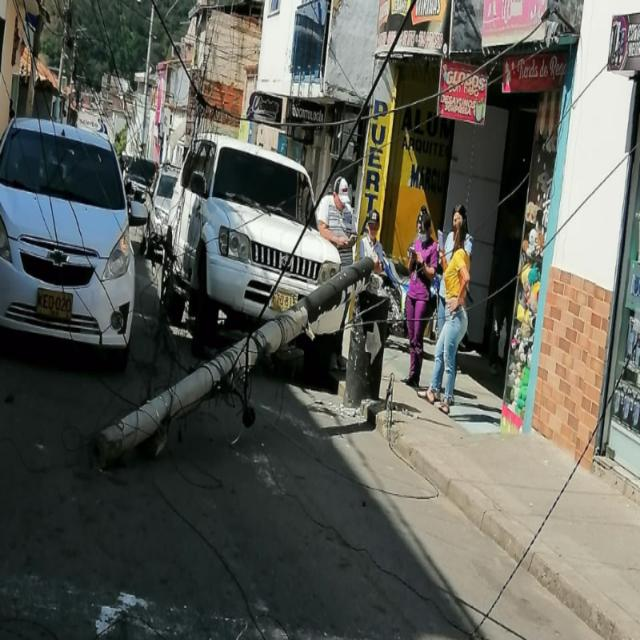Inclined Pole: (95, 256, 388, 463)
